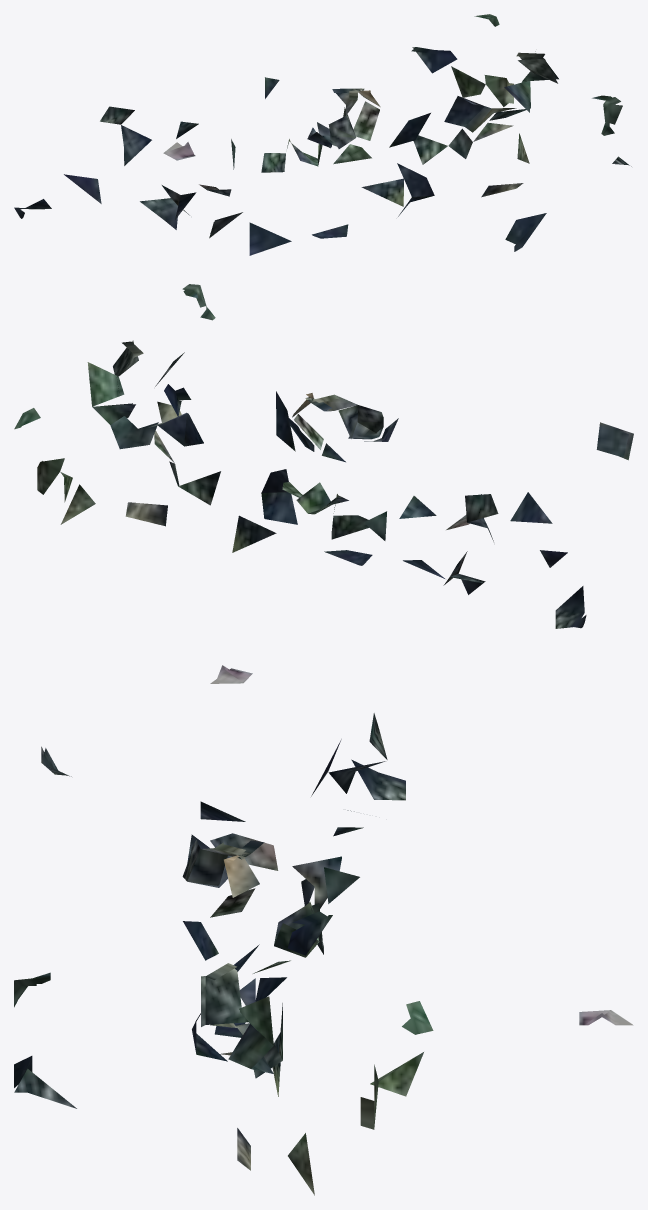
The picture shows the model from 3 angles, top to bottom: view 1: azimuth 30°, elevation 25°; view 2: azimuth 150°, elevation 25°; view 3: azimuth 270°, elevation 25°; orthographic projection. The views are drawn at different scales.
Parts seen in each view (by area): view 1: 30436272704370427713_1; view 2: 30436272704370427713_1; view 3: 30436272704370427713_1.
Part boxes in pixels (x1,y1,x2,y2): 30436272704370427713_1: [14, 14, 631, 255]; 30436272704370427713_1: [14, 284, 633, 683]; 30436272704370427713_1: [14, 713, 633, 1195].
Bounding box in the file's own units: 27.31 × 7.55 × 20.98.
1 material, 1 textured.
